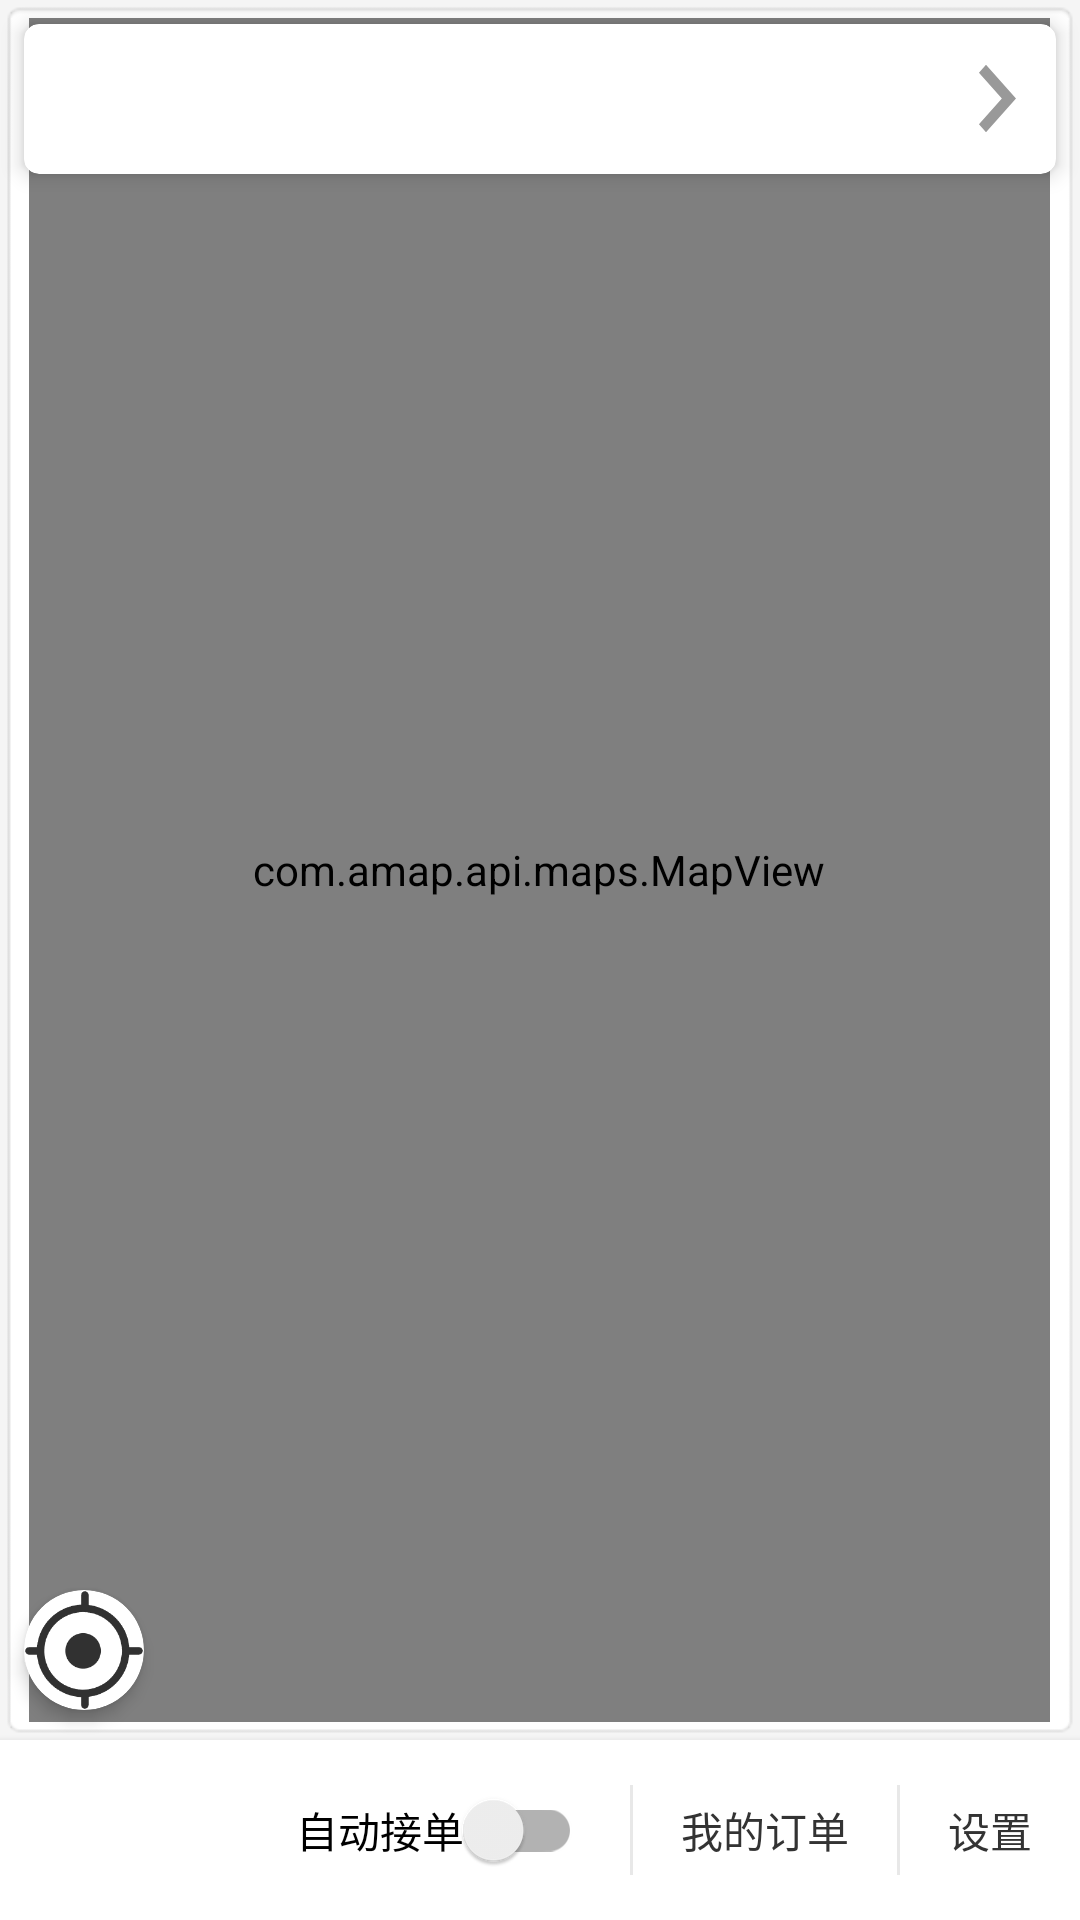

Named icons in this screenshot (1080x1920) and their centers, (x,y):
arrow right: (997,98)
location: (84,1650)
